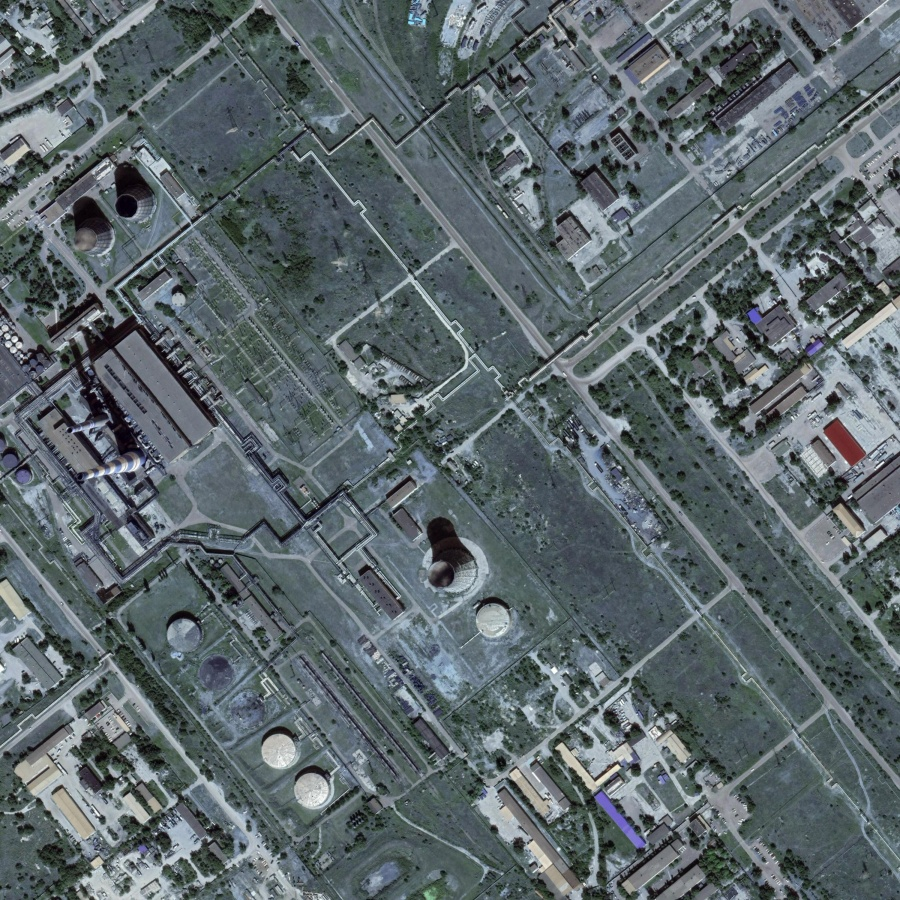PowerPlant: (44, 169, 519, 820)
